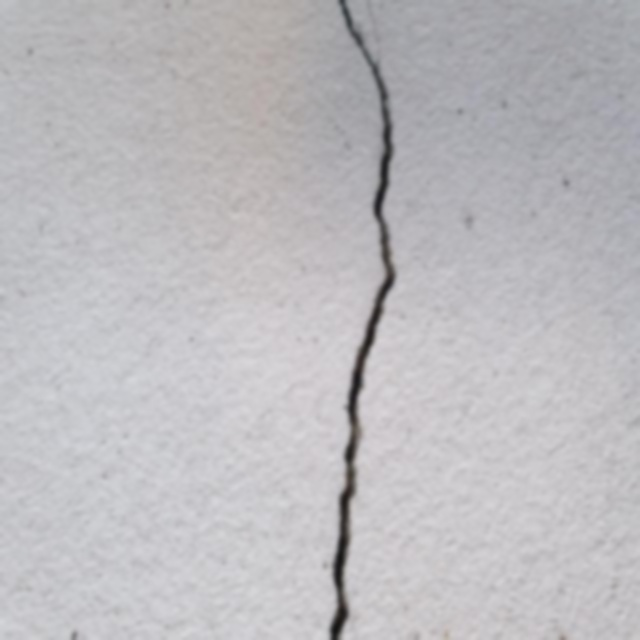SurfaceCrack: (274, 0, 437, 640)
